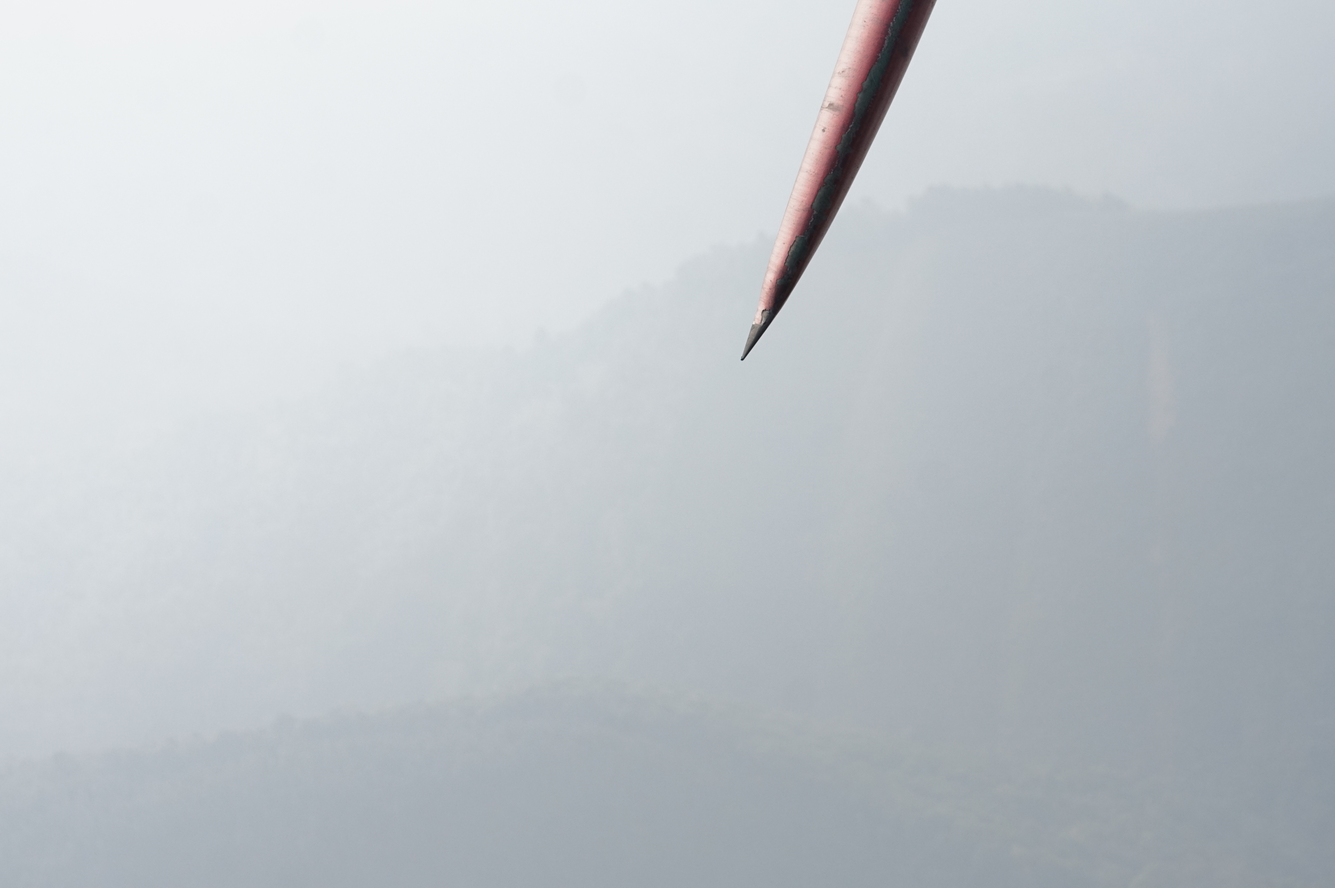Damage: (772, 1, 918, 302)
